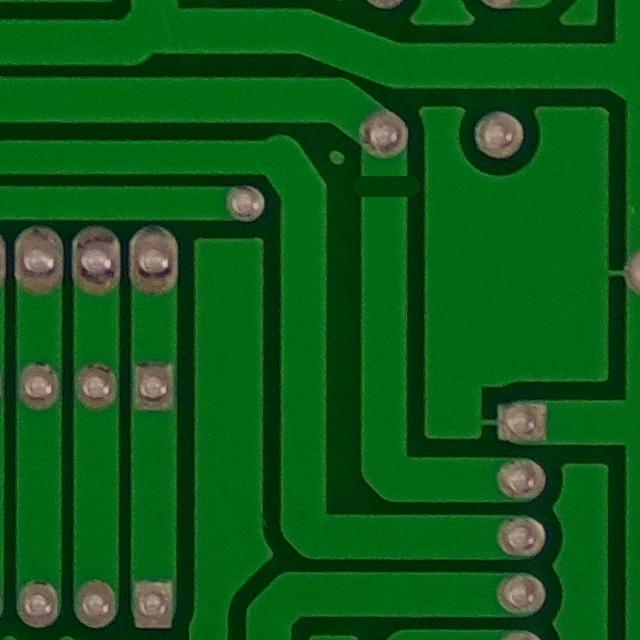open_circuit: (344, 159, 421, 219)
